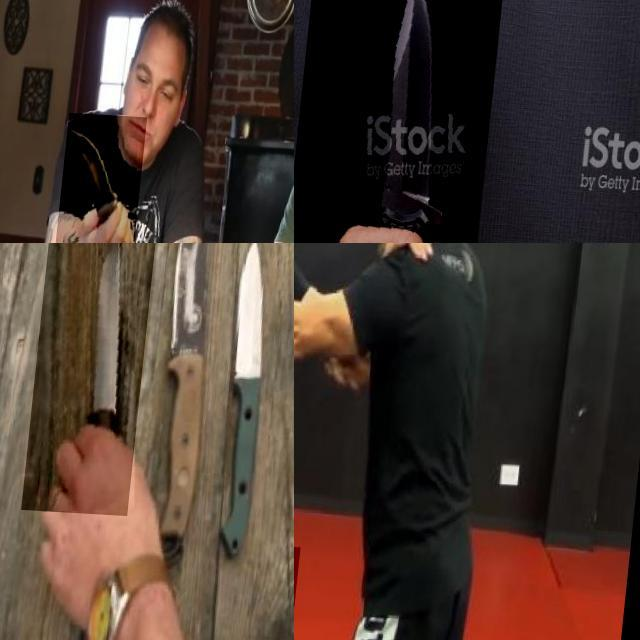-: (294, 0, 508, 243), (31, 243, 162, 512), (160, 243, 238, 399), (62, 110, 151, 243), (230, 243, 292, 407), (294, 539, 342, 603)
